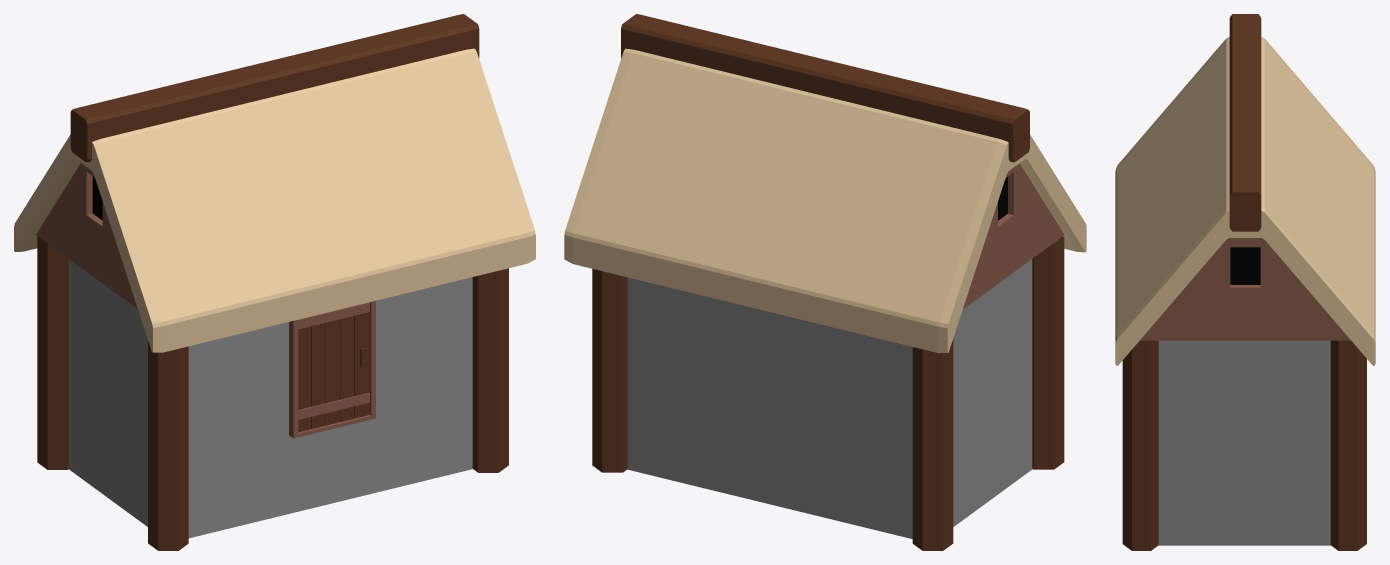
The model's file is House#3.fbx.
3 views of the same model, side by side, from view 1: azimuth 30°, elevation 25°; view 2: azimuth 150°, elevation 25°; view 3: azimuth 270°, elevation 25° (orthographic). The views are drawn at different scales.
Visible parts, largest first — view 1: House#3; view 2: House#3; view 3: House#3.
Boxes of the visible parts, x1,y1,x2,y2 form: House#3: (14,14,535,550); House#3: (564,14,1086,550); House#3: (1115,14,1375,550).
Size of the model in its own units: 1436 by 1389 by 886.
